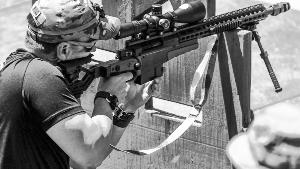sniper: (107, 4, 293, 91)
